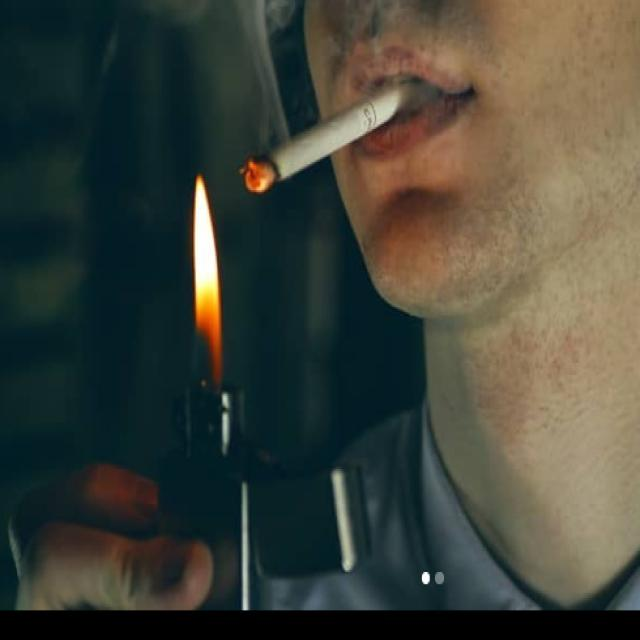fire: (194, 174, 222, 386), (239, 158, 275, 193)
